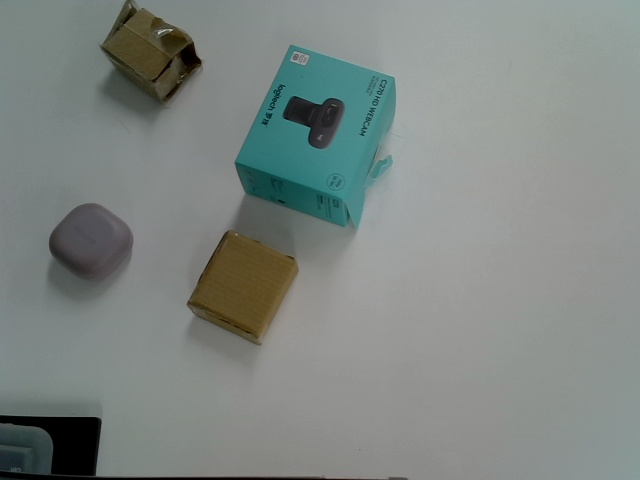defect: (101, 1, 201, 105)
normal: (188, 230, 298, 348)
